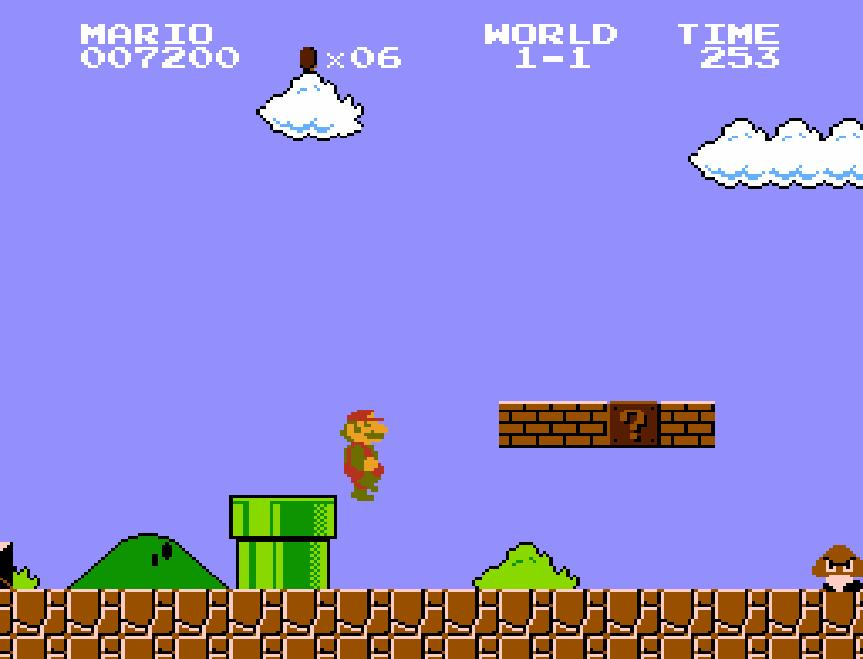big_mario: (335, 404, 393, 502)
